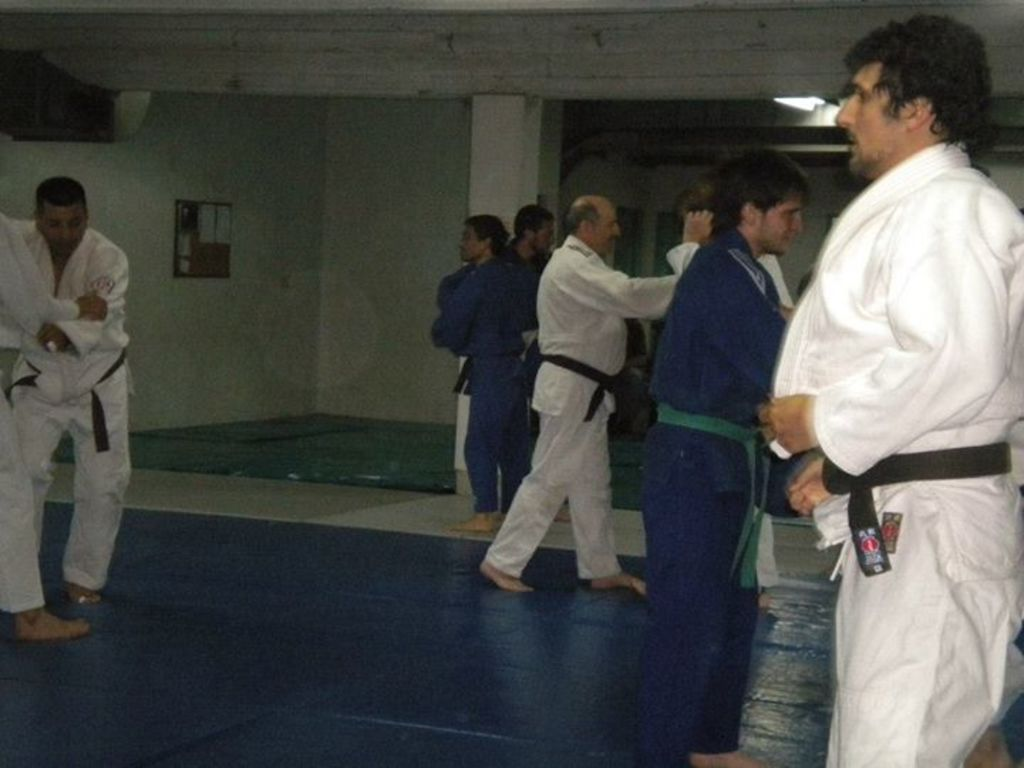Person: (0, 215, 105, 639)
